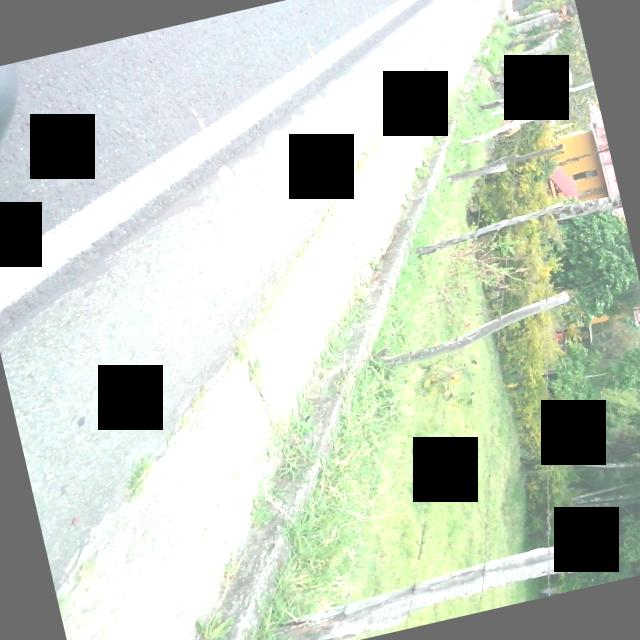DITCH: (0, 0, 640, 640), (0, 0, 610, 640)
